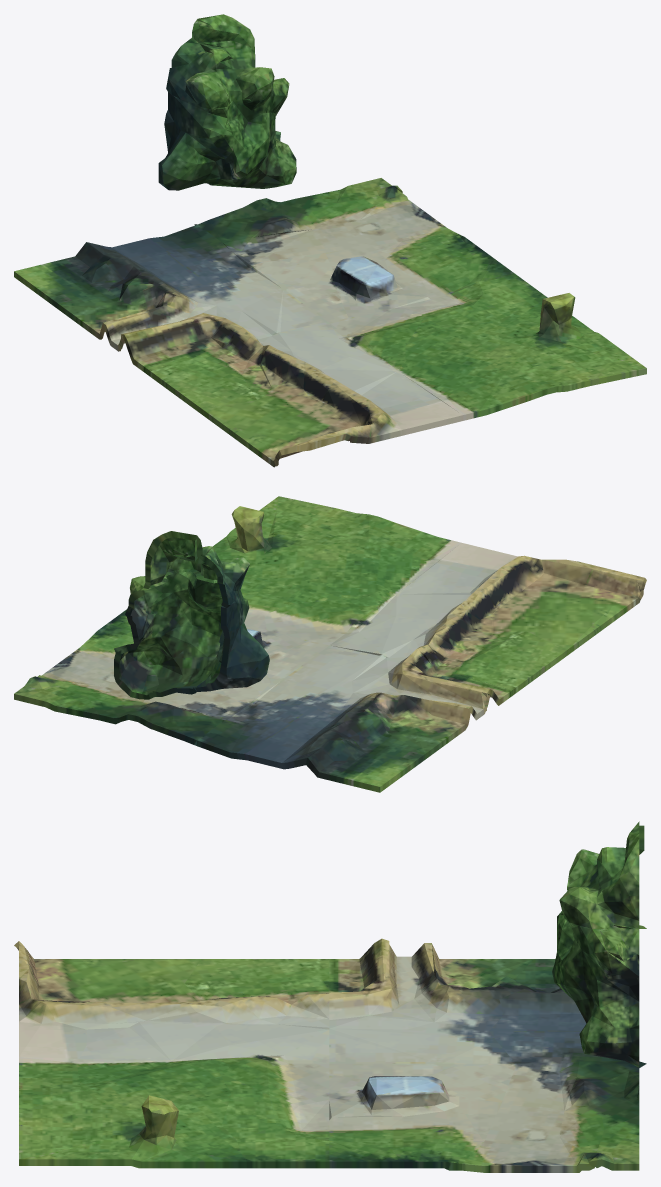
The model's file is BuildingMesh-00067.001.gltf.
3 views of the same model, one above another, from view 1: azimuth 30°, elevation 25°; view 2: azimuth 150°, elevation 25°; view 3: azimuth 270°, elevation 25° (orthographic). The views are drawn at different scales.
Parts seen in each view (by area): view 1: BuildingMesh-00067.001; view 2: BuildingMesh-00067.001; view 3: BuildingMesh-00067.001.
Part boxes in pixels (left/top/right/bottom): BuildingMesh-00067.001: left=14, top=14, right=646, bottom=467; BuildingMesh-00067.001: left=14, top=496, right=646, bottom=792; BuildingMesh-00067.001: left=14, top=821, right=646, bottom=1172.
Size of the model in its own units: 1.55 by 0.8706 by 1.98.
1 material, 1 textured.
